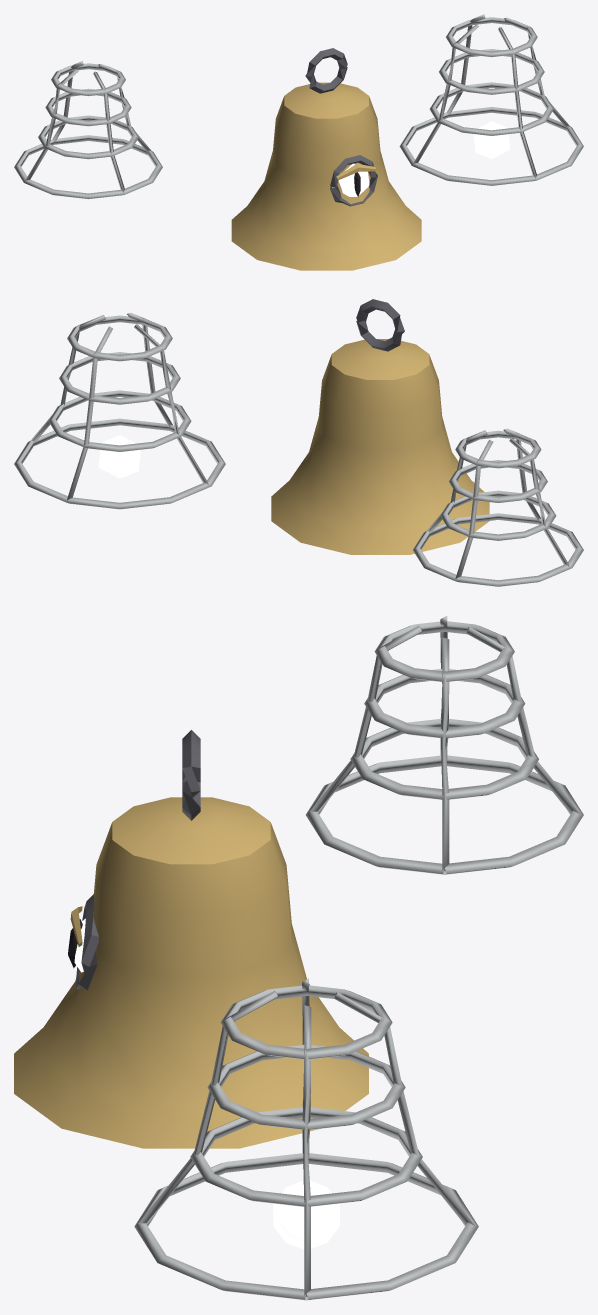
The model's file is bell-lost-bell.glb.
3 renders of one model, top to bottom at view 1: azimuth 30°, elevation 25°; view 2: azimuth 150°, elevation 25°; view 3: azimuth 270°, elevation 25°, orthographic. The views are drawn at different scales.
Visible parts, largest first — view 1: bell_lost_bell; view 2: bell_lost_bell; view 3: bell_lost_bell.
Boxes of the visible parts, x1=… form: bell_lost_bell: x1=14, y1=14, x2=583, y2=270; bell_lost_bell: x1=14, y1=299, x2=583, y2=586; bell_lost_bell: x1=14, y1=616, x2=583, y2=1300.
Bounding box in the file's own units: 1.16 × 0.4529 × 0.601.
